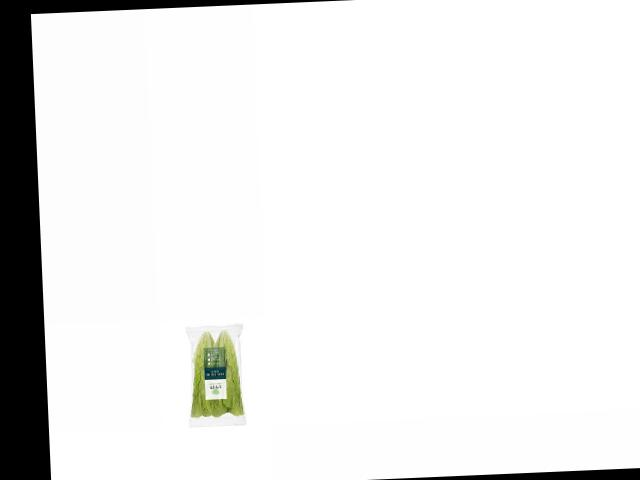lettuce: (187, 328, 250, 421)
